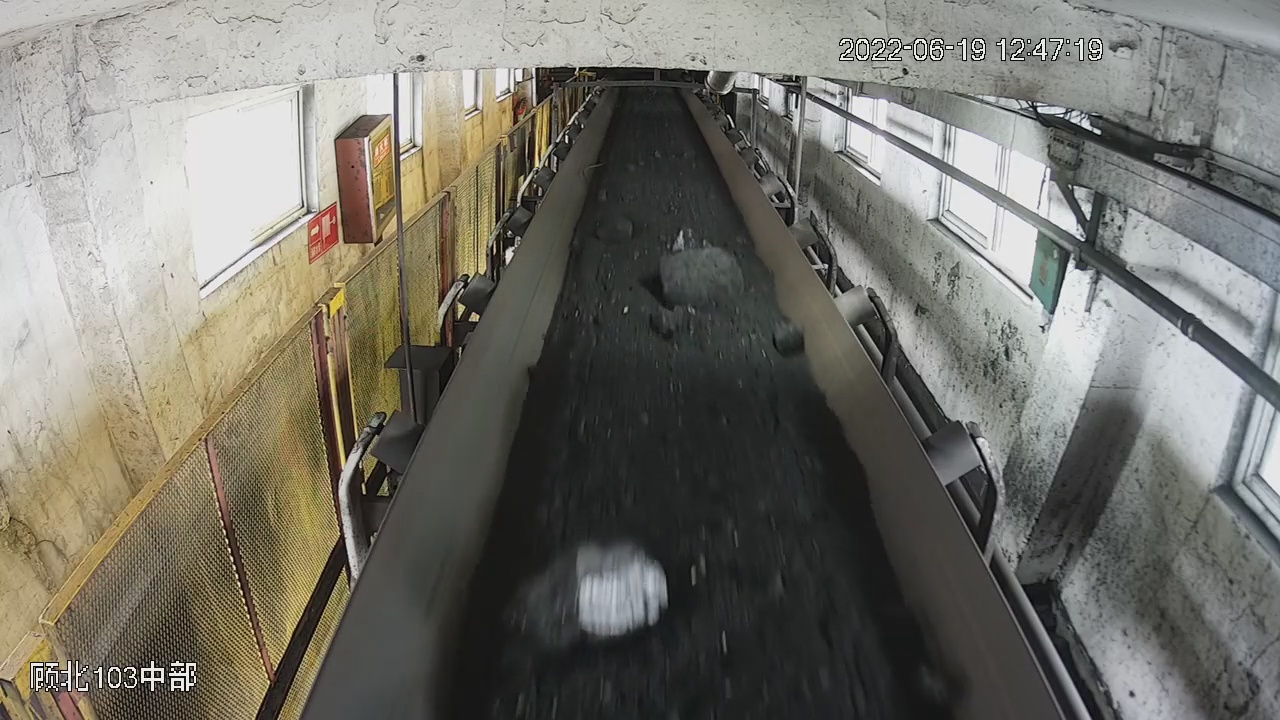gangue: (505, 541, 668, 656), (662, 228, 742, 303), (908, 660, 961, 708), (651, 306, 702, 336), (772, 319, 804, 356), (599, 211, 633, 238)
